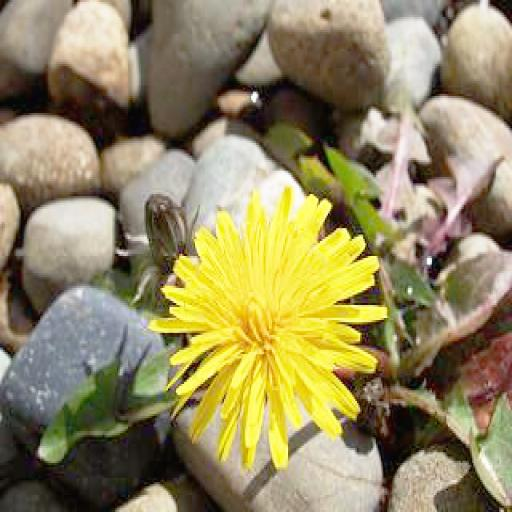dandelion: (152, 188, 386, 465)
